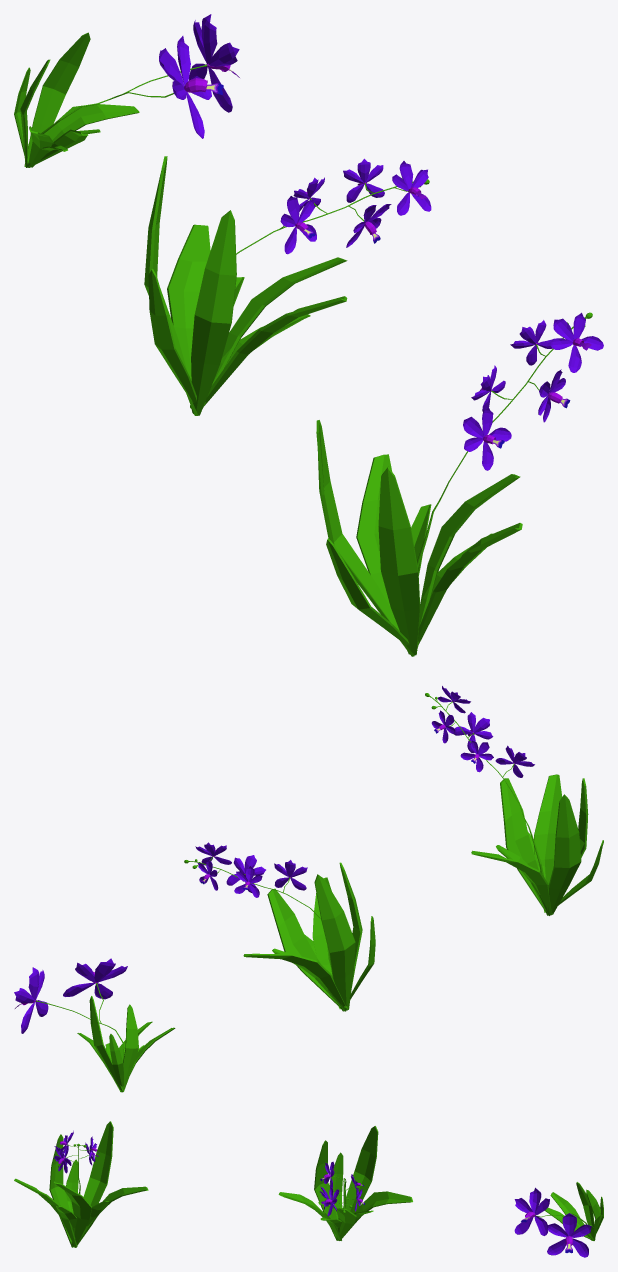
The model's file is orchid_poison.fbx.
3 views of the same model, one above another, from view 1: azimuth 30°, elevation 25°; view 2: azimuth 150°, elevation 25°; view 3: azimuth 270°, elevation 25° (orthographic). The views are drawn at different scales.
Visible parts, largest first — view 1: Sphere.030, Sphere.037, Sphere.027, Sphere.039, Sphere.040, Sphere.017, Sphere.042, Sphere.025, Sphere.029, Sphere.024, Sphere.043, Sphere.028 (+2 smaller); view 2: Sphere.028, Sphere.039, Sphere.042, Sphere.043, Sphere.025, Sphere.027, Sphere.040, Sphere.015, Sphere.024, Sphere.030, Sphere.017, Sphere.037; view 3: Sphere.028, Sphere.039, Sphere.037, Sphere.042, Sphere.030, Sphere.027, Sphere.029, Sphere.043, Sphere.024, Sphere.025, Sphere.040, Sphere.038 (+9 smaller).
Boxes of the visible parts, box(x1,y1,x2,y2) form: Sphere.030: box(191, 210, 236, 415); Sphere.037: box(378, 467, 420, 655); Sphere.027: box(167, 224, 210, 411); Sphere.039: box(316, 420, 414, 656); Sphere.040: box(356, 454, 417, 650); Sphere.017: box(24, 32, 90, 166); Sphere.042: box(417, 474, 520, 648); Sphere.025: box(202, 257, 347, 408); Sphere.029: box(148, 269, 196, 402); Sphere.024: box(204, 296, 347, 405); Sphere.043: box(417, 523, 522, 644); Sphere.028: box(144, 156, 197, 415); Sphere.028: box(314, 874, 355, 1010); Sphere.039: box(548, 794, 581, 915); Sphere.042: box(500, 778, 545, 910); Sphere.043: box(534, 774, 562, 912); Sphere.025: box(267, 888, 340, 1006); Sphere.027: box(243, 953, 347, 1009); Sphere.040: box(471, 850, 551, 914); Sphere.015: box(121, 1004, 138, 1091); Sphere.024: box(312, 877, 340, 1009); Sphere.030: box(339, 862, 362, 1009); Sphere.017: box(89, 996, 123, 1092); Sphere.037: box(552, 778, 588, 914); Sphere.028: box(343, 1126, 378, 1213); Sphere.039: box(74, 1121, 113, 1247); Sphere.037: box(49, 1134, 72, 1247); Sphere.042: box(54, 1181, 91, 1247); Sphere.030: box(314, 1140, 337, 1240); Sphere.027: box(338, 1191, 412, 1240); Sphere.029: box(329, 1152, 343, 1218); Sphere.043: box(14, 1178, 77, 1246); Sphere.024: box(278, 1192, 341, 1240); Sphere.025: box(318, 1201, 356, 1240); Sphere.040: box(73, 1186, 148, 1247); Sphere.038: box(65, 1159, 78, 1241).
Size of the model in its own units: 3189 by 2330 by 8113.
